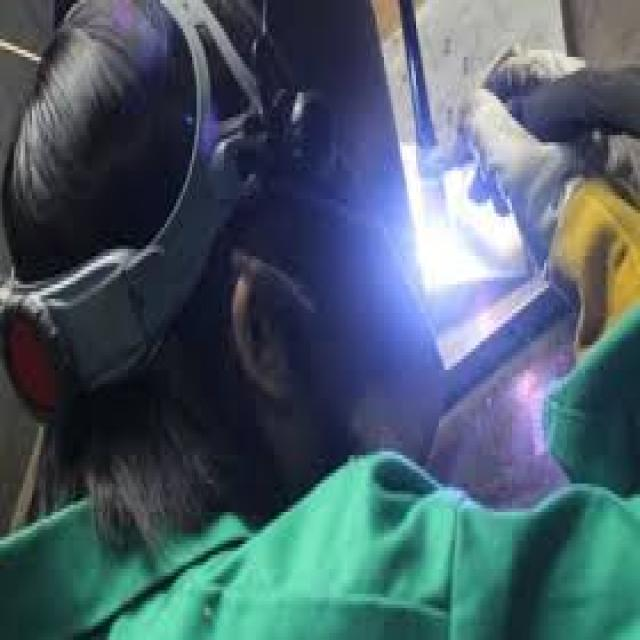welding: (414, 220, 466, 282)
